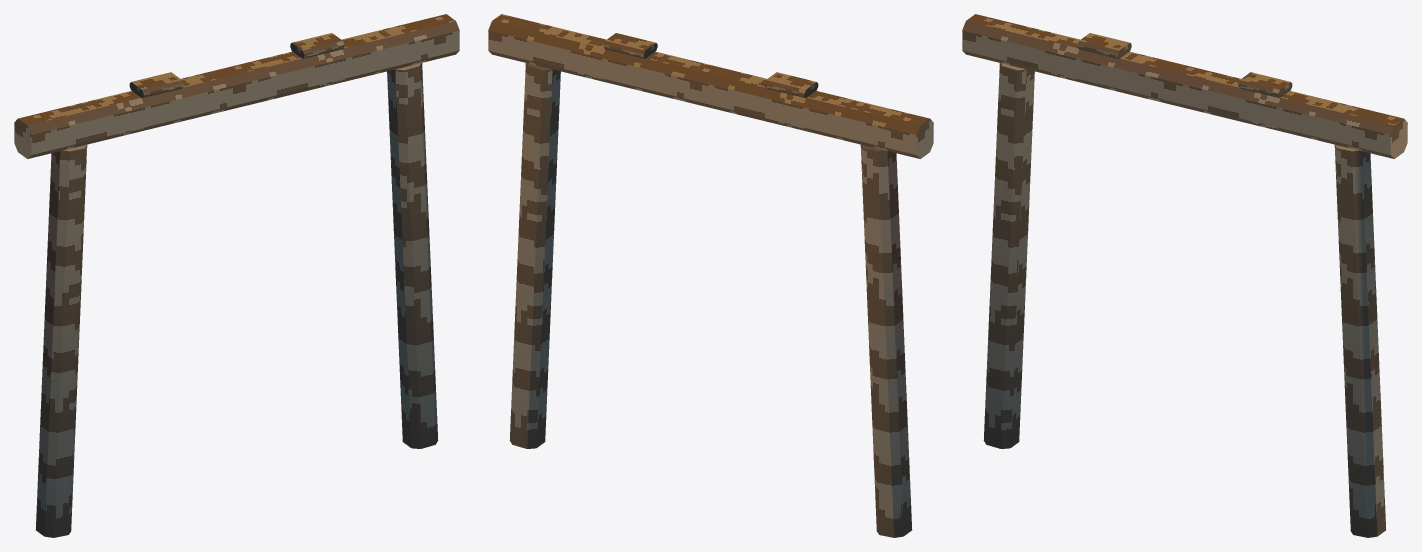
Rendered from wmine.timber_set.glb.
3 renders of one model, left to right at view 1: azimuth 30°, elevation 25°; view 2: azimuth 150°, elevation 25°; view 3: azimuth 330°, elevation 25°, orthographic.
Visible parts, largest first — view 1: kit_sets, kit_caps, kit_wedges; view 2: kit_sets, kit_caps, kit_wedges; view 3: kit_sets, kit_caps, kit_wedges.
Part boxes in pixels (left/top/right/bottom): kit_sets: left=35, top=63, right=438, bottom=537; kit_caps: left=14, top=14, right=459, bottom=158; kit_wedges: left=129, top=33, right=344, bottom=97; kit_sets: left=509, top=63, right=912, bottom=537; kit_caps: left=488, top=14, right=933, bottom=158; kit_wedges: left=603, top=33, right=818, bottom=97; kit_sets: left=983, top=63, right=1386, bottom=537; kit_caps: left=962, top=14, right=1407, bottom=158; kit_wedges: left=1077, top=33, right=1292, bottom=97.
Size of the model in its own units: 3.2 by 3.03 by 0.22.
Materials: 2 (2 with a texture image).
